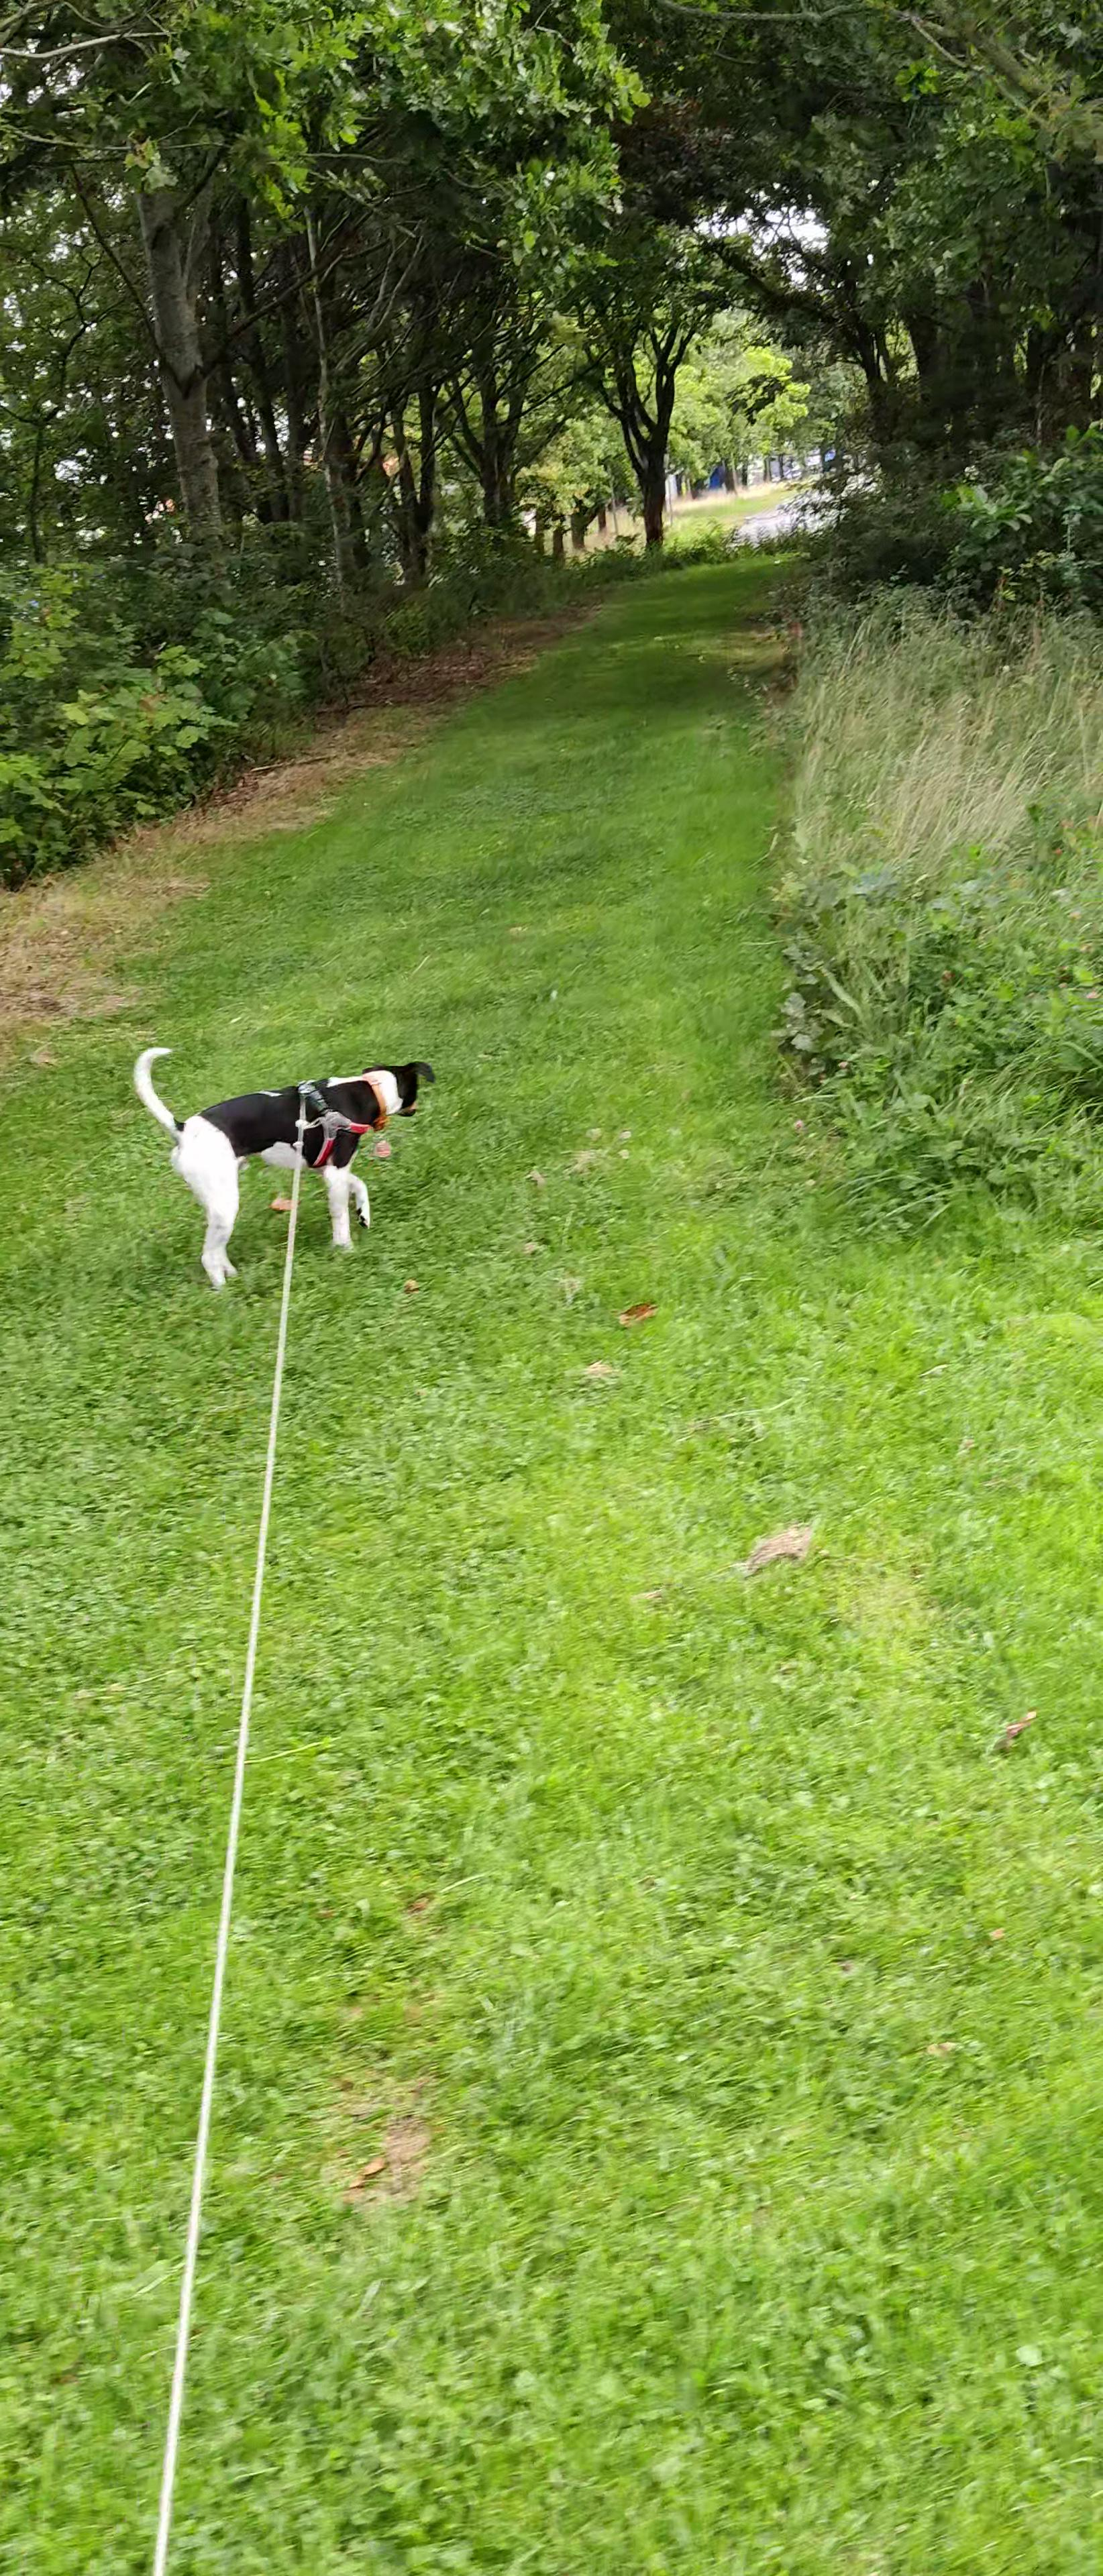Dog: (113, 1042, 439, 1301)
